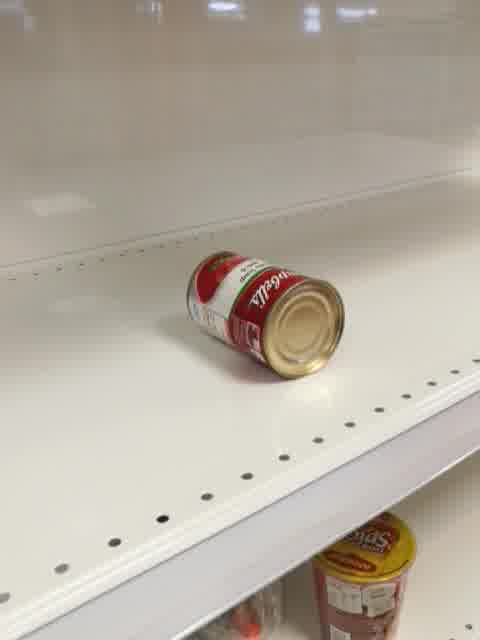tomatosoup: (184, 249, 345, 383)
